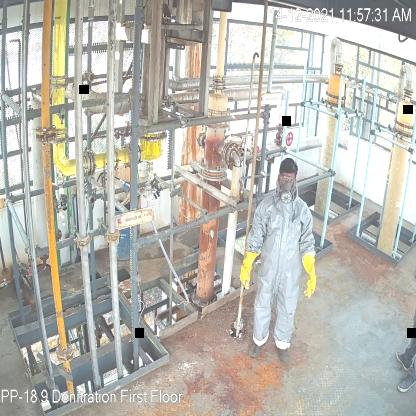goggles: (280, 173, 295, 183)
mask: (278, 182, 295, 205)
